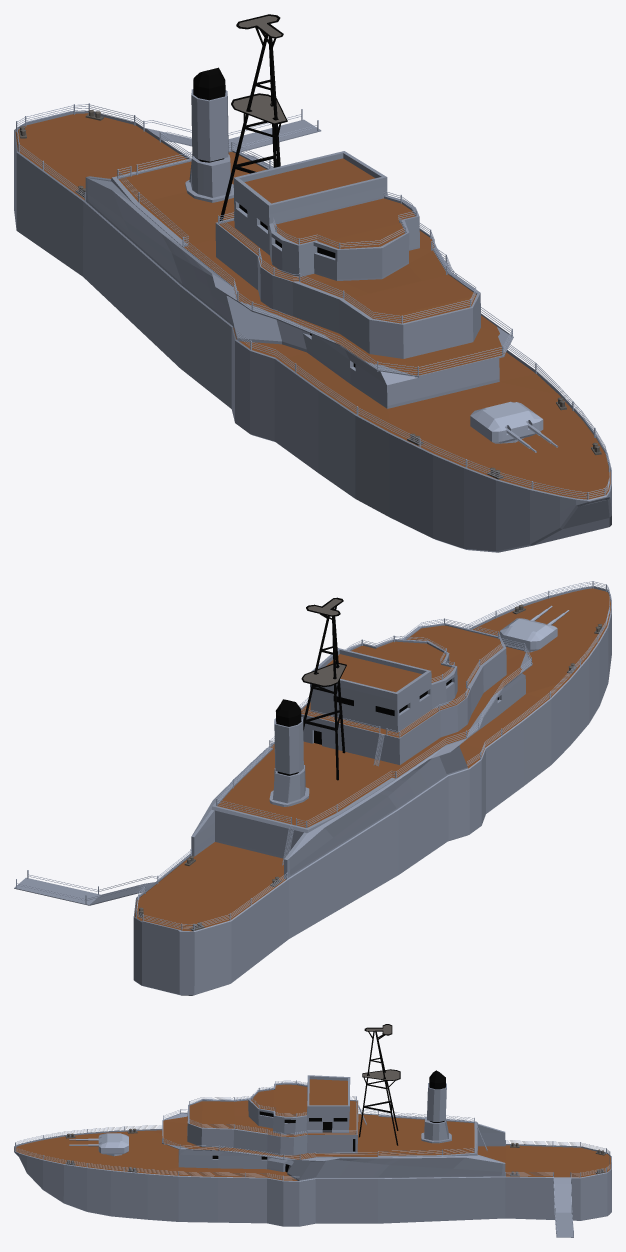
File: BuqueLOD_3.1.fbx
3 views of the same model, one above another, from view 1: azimuth 30°, elevation 25°; view 2: azimuth 150°, elevation 25°; view 3: azimuth 270°, elevation 25° (orthographic). The views are drawn at different scales.
Parts seen in each view (by area): view 1: Torre.001; view 2: Torre.001; view 3: Torre.001.
Part boxes in pixels (x1,y1,x2,y2): Torre.001: [14, 14, 611, 552]; Torre.001: [14, 581, 611, 995]; Torre.001: [14, 1024, 611, 1237].
Bounding box in the file's own units: 5471 × 5315 × 16186.
